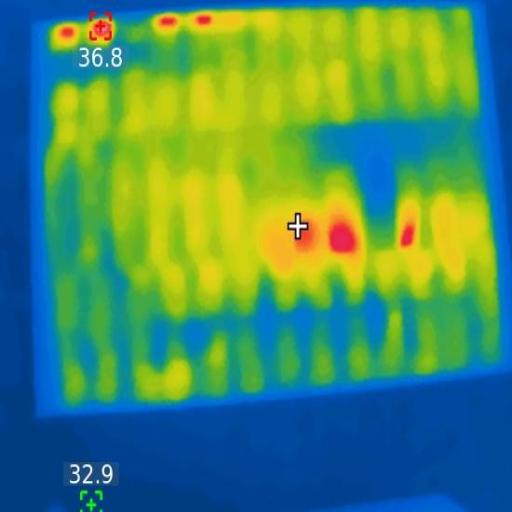hotspot: (328, 220, 362, 258), (88, 14, 121, 46), (400, 219, 418, 254), (156, 14, 182, 36), (58, 27, 82, 44), (195, 16, 217, 30)
